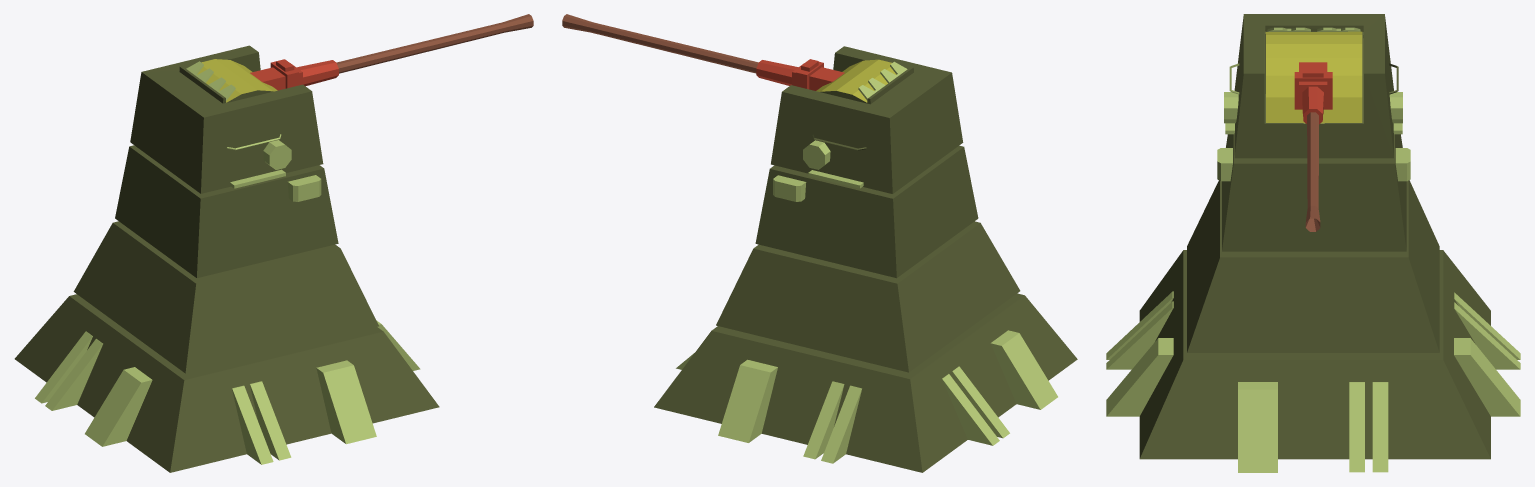
File: Cannon-R-1.fbx
The picture shows the model from 3 angles, left to right: view 1: azimuth 30°, elevation 25°; view 2: azimuth 150°, elevation 25°; view 3: azimuth 270°, elevation 25°; orthographic projection. The views are drawn at different scales.
Parts seen in each view (by area): view 1: russian_level1_5:base, russian_level1_5:attack; view 2: russian_level1_5:base, russian_level1_5:attack; view 3: russian_level1_5:base, russian_level1_5:attack.
Part boxes in pixels (left/top/right/bottom): russian_level1_5:base: left=14, top=45, right=439, bottom=472; russian_level1_5:attack: left=250, top=14, right=533, bottom=90; russian_level1_5:base: left=654, top=46, right=1077, bottom=472; russian_level1_5:attack: left=562, top=14, right=844, bottom=90; russian_level1_5:base: left=1106, top=14, right=1520, bottom=472; russian_level1_5:attack: left=1294, top=62, right=1332, bottom=231.
Bounding box in the file's own units: 1283 × 827 × 881.
